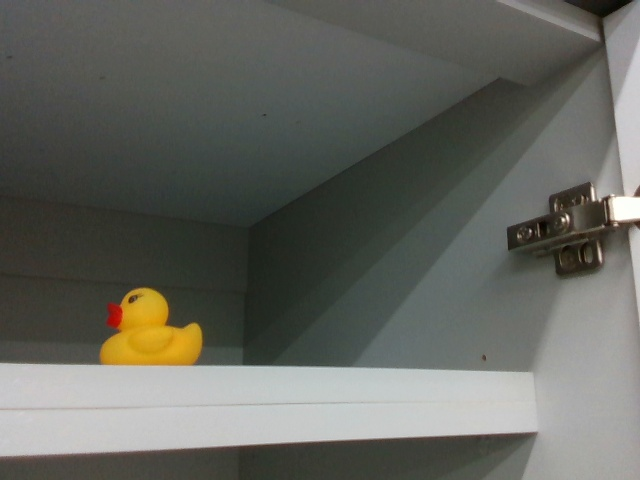duck: (91, 273, 208, 363)
